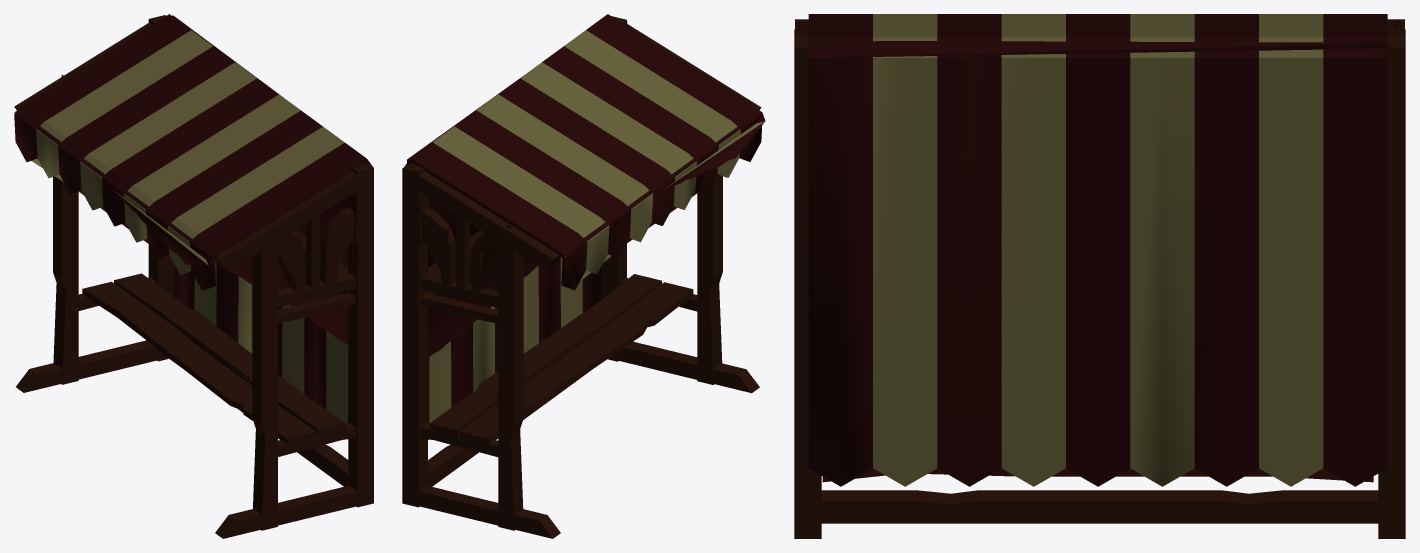
File: MarketStand_2.fbx
3 renders of one model, left to right at view 1: azimuth 30°, elevation 25°; view 2: azimuth 150°, elevation 25°; view 3: azimuth 270°, elevation 25°, orthographic. The views are drawn at different scales.
Parts seen in each view (by area): view 1: High_MarketStand_2, Low_MarketStand_2; view 2: High_MarketStand_2, Low_MarketStand_2; view 3: High_MarketStand_2, Low_MarketStand_2.
Part boxes in pixels (x1,y1,x2,y2): High_MarketStand_2: [14, 14, 373, 538]; Low_MarketStand_2: [15, 15, 354, 444]; High_MarketStand_2: [402, 14, 761, 538]; Low_MarketStand_2: [407, 81, 765, 442]; High_MarketStand_2: [794, 14, 1405, 538]; Low_MarketStand_2: [810, 19, 1400, 482].
Size of the model in its own units: 52.65 by 104 by 115.
